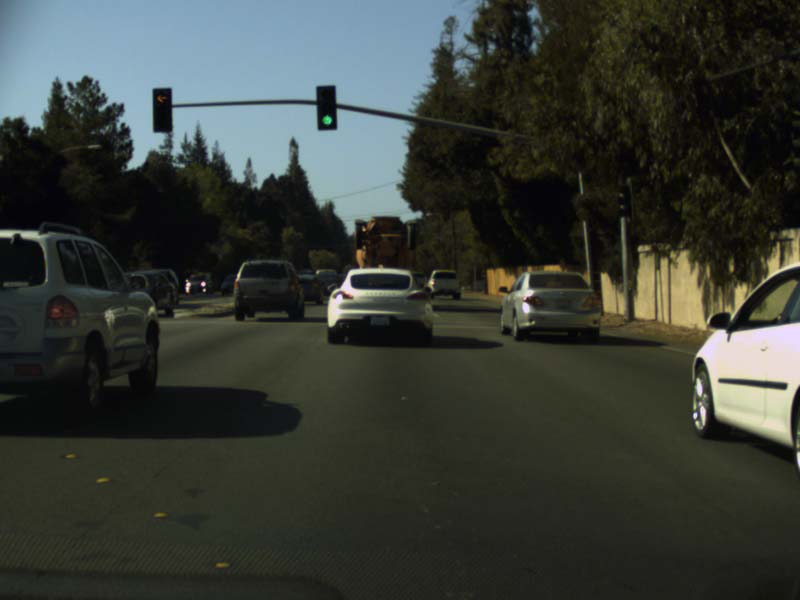Green: (316, 85, 337, 129)
Red: (152, 87, 170, 133)
